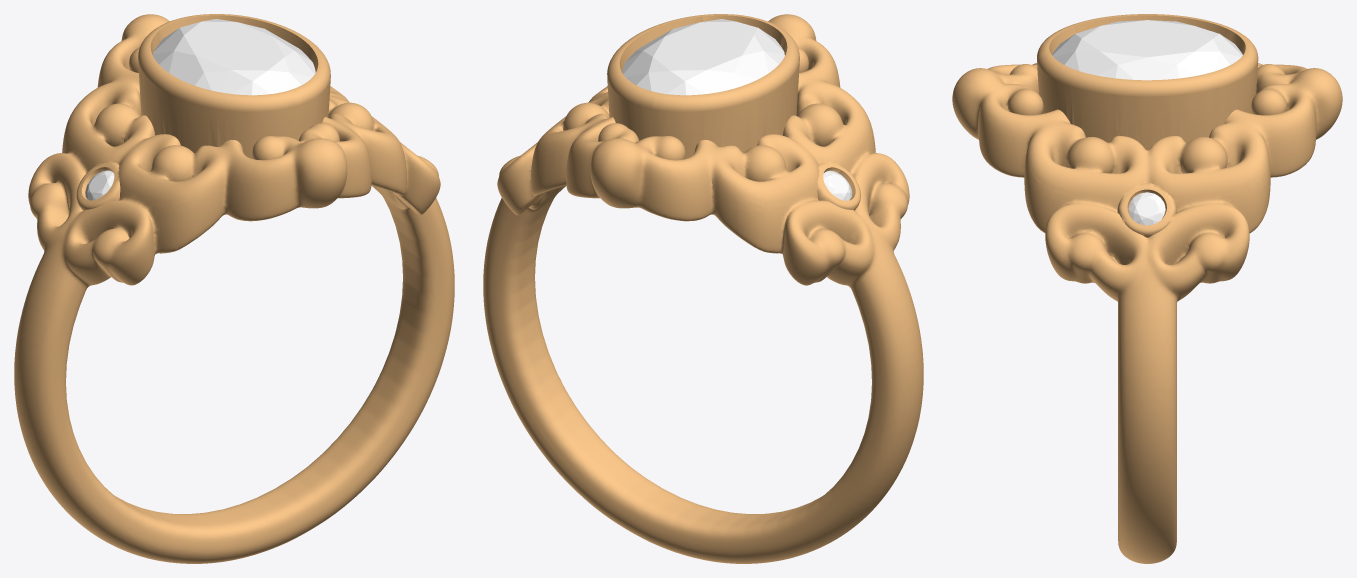
3 views of the same model, side by side, from view 1: azimuth 30°, elevation 25°; view 2: azimuth 150°, elevation 25°; view 3: azimuth 270°, elevation 25° (orthographic).
Bounding box in the file's own units: 2.34 × 2.65 × 1.87.
